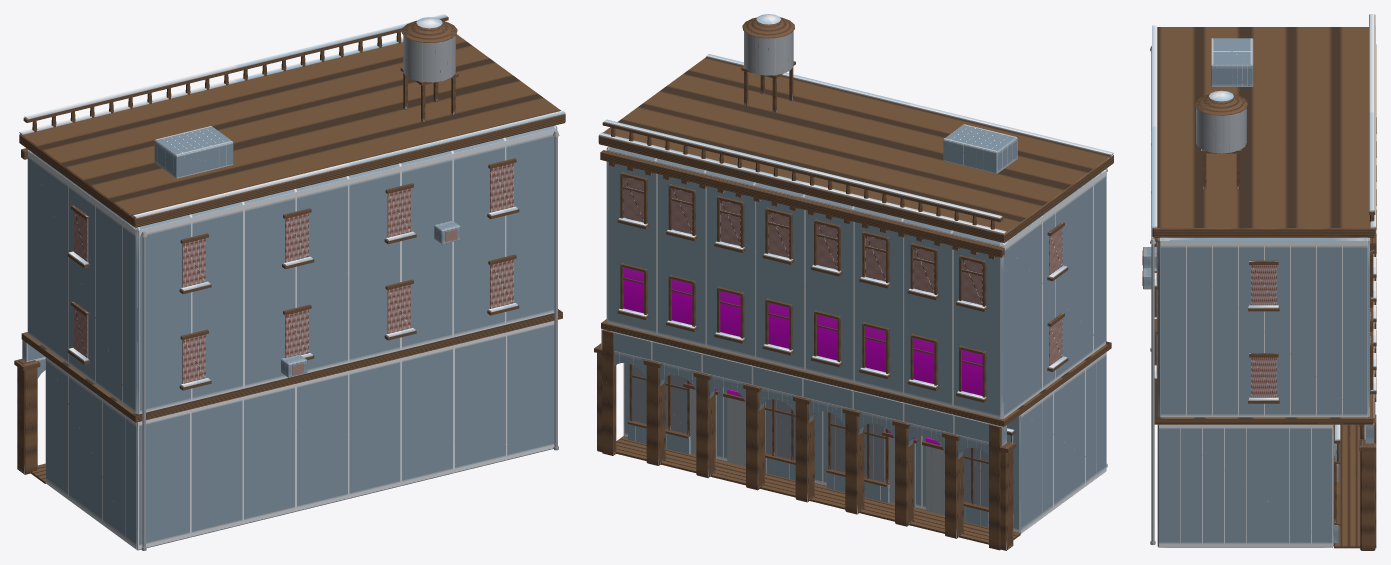
File: ck_shop_row_arcade.fbx
3 renders of one model, left to right at view 1: azimuth 30°, elevation 25°; view 2: azimuth 150°, elevation 25°; view 3: azimuth 270°, elevation 25°, orthographic. The views are drawn at different scales.
Parts seen in each view (by area): view 1: ck_shop_row_arcade; view 2: ck_shop_row_arcade; view 3: ck_shop_row_arcade.
Boxes of the visible parts, bbox=[...] form: ck_shop_row_arcade: bbox=[14, 14, 565, 550]; ck_shop_row_arcade: bbox=[594, 14, 1113, 550]; ck_shop_row_arcade: bbox=[1142, 14, 1376, 550].
Bounding box in the file's own units: 4580 × 4255 × 2207.
